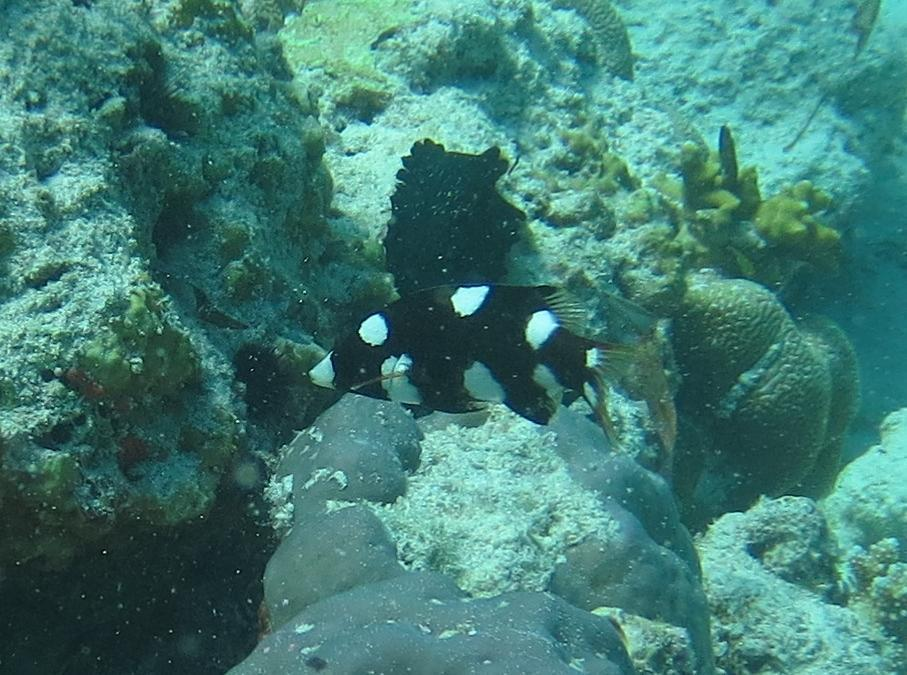Fish: (245, 249, 735, 483)
